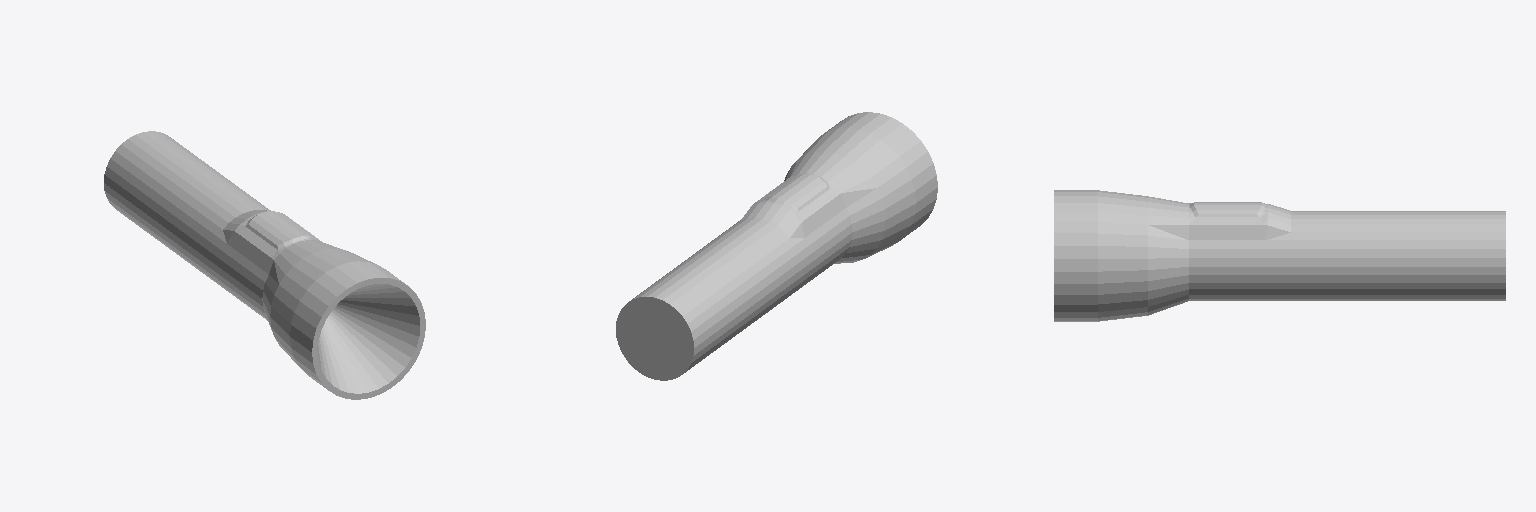
Rendered from Lanterna.obj.
3 renders of one model, left to right at view 1: azimuth 30°, elevation 25°; view 2: azimuth 150°, elevation 25°; view 3: azimuth 270°, elevation 25°, orthographic.
Parts seen in each view (by area): view 1: Flashlight:Mesh; view 2: Flashlight:Mesh; view 3: Flashlight:Mesh.
Boxes of the visible parts, x1=… form: Flashlight:Mesh: x1=104, y1=131, x2=425, y2=399; Flashlight:Mesh: x1=616, y1=112, x2=937, y2=380; Flashlight:Mesh: x1=1054, y1=190, x2=1505, y2=321.
Bounding box in the file's own units: 0.1349 × 0.1349 × 0.4635.